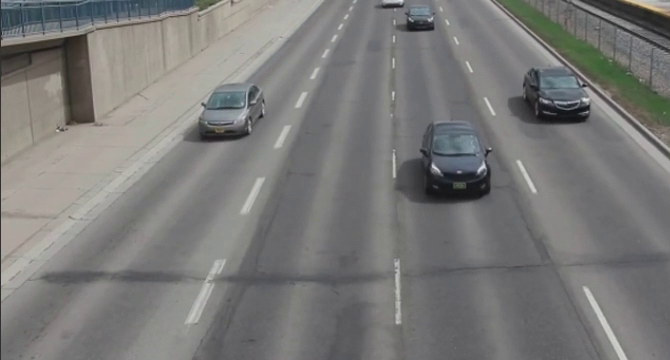car: (416, 119, 499, 203), (197, 79, 271, 140), (522, 65, 596, 126), (403, 4, 439, 37)
